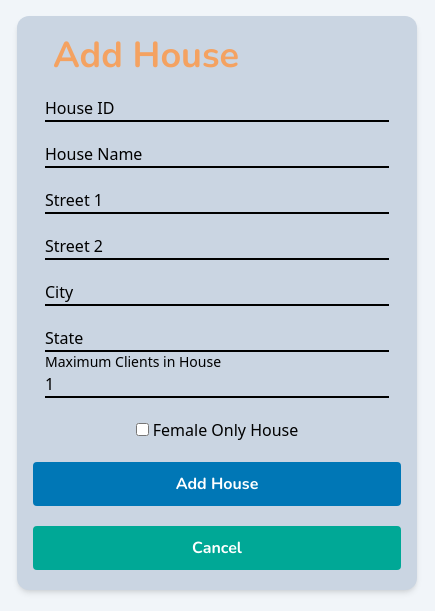
Add House › should display field errors for api errors
The width and height of the screenshot is (435, 611).
Step 1. Type "H12345" into the field labelled "House ID" → [217, 109], box [45, 96, 389, 122]
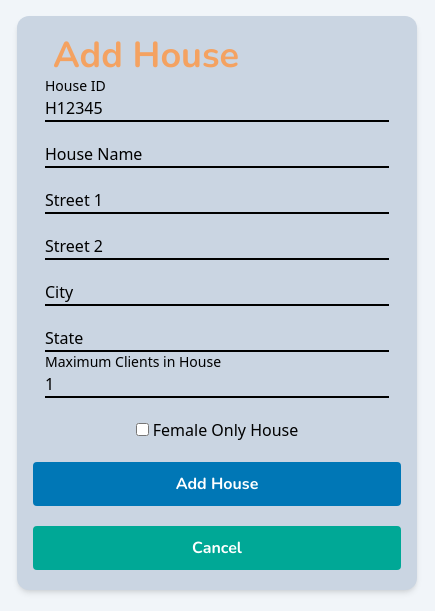
Step 2. Type "Testable" into the field labelled "House Name" → [217, 155], box [45, 142, 389, 168]
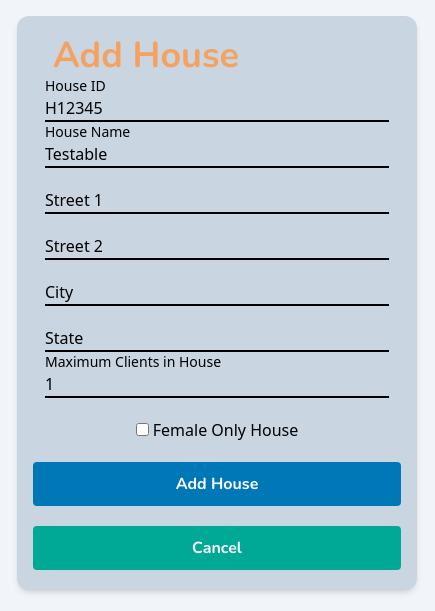
Step 3. Type "100 Testing Rd" into the field labelled "Street 1" → [217, 201], box [45, 188, 389, 214]
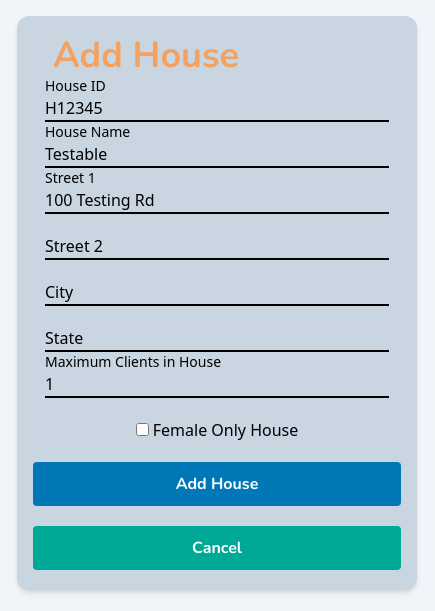
Step 4. Type "Reactville" into the field labelled "City" → [217, 293], box [45, 280, 389, 306]
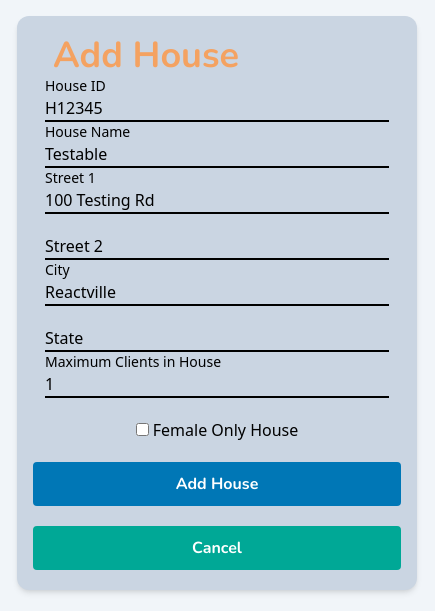
Step 5. Type "TX" into the field labelled "State" → [217, 339], box [45, 326, 389, 352]
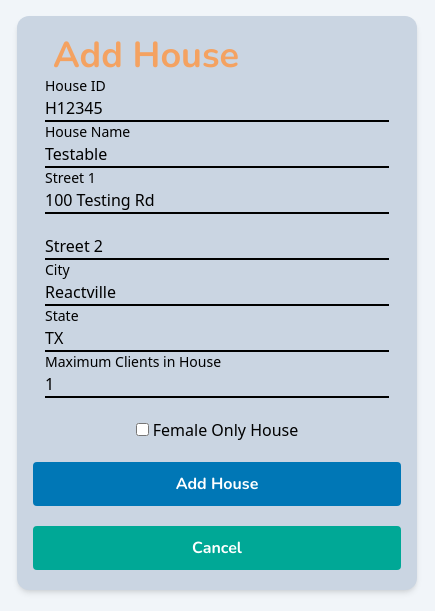
Step 6. Click the button "Add House" → [217, 484], box [33, 462, 401, 506]
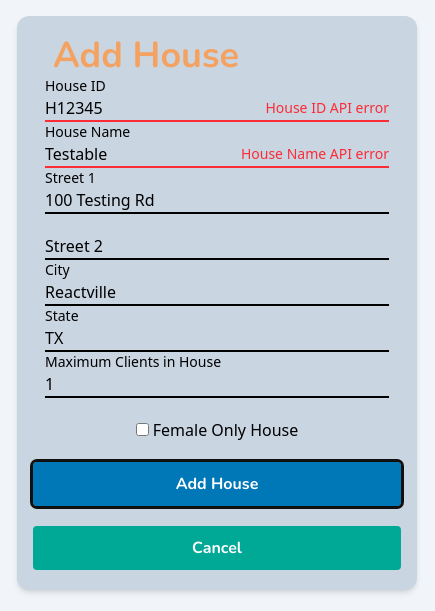
Now the text "House ID API error" is shown, box [265, 98, 389, 118]
Now the text "House Name API error" is shown, box [241, 144, 389, 164]
